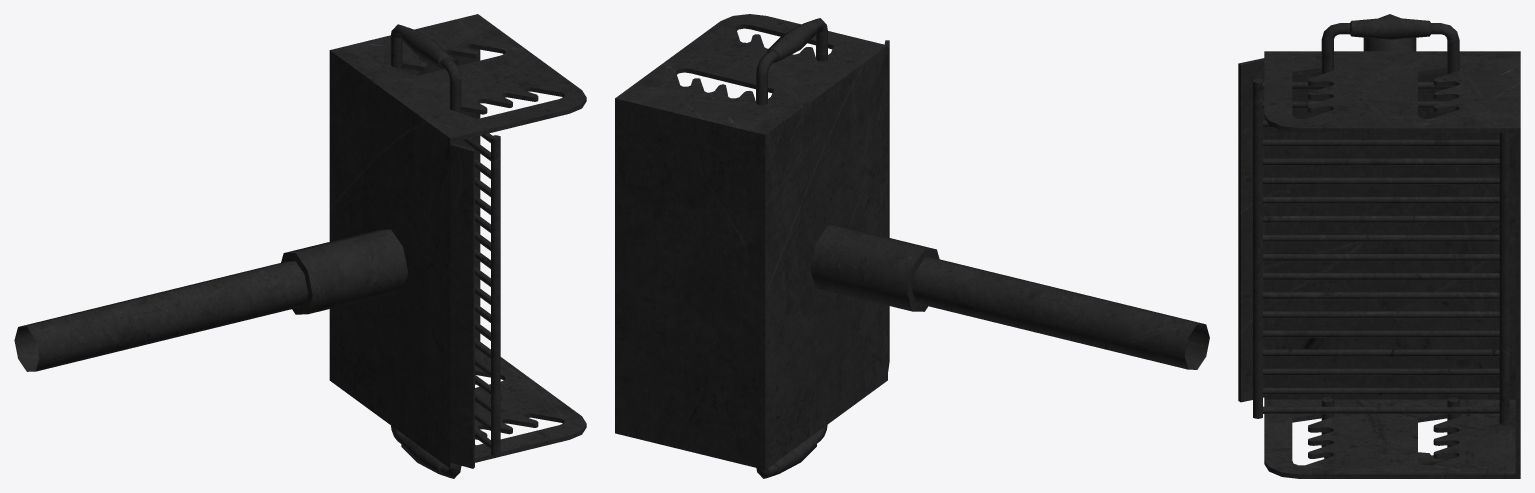
Rendered from cP_ParkGrill.dae.
The picture shows the model from 3 angles, left to right: view 1: azimuth 30°, elevation 25°; view 2: azimuth 150°, elevation 25°; view 3: azimuth 270°, elevation 25°; orthographic projection. The views are drawn at different scales.
Visible parts, largest first — view 1: cP_ParkGrill.001; view 2: cP_ParkGrill.001; view 3: cP_ParkGrill.001.
Part boxes in pixels (bbox=[...]): cP_ParkGrill.001: bbox=[14, 14, 586, 478]; cP_ParkGrill.001: bbox=[615, 14, 1209, 478]; cP_ParkGrill.001: bbox=[1238, 14, 1520, 478].
Size of the model in its own units: 1.33 by 0.5969 by 1.06.
